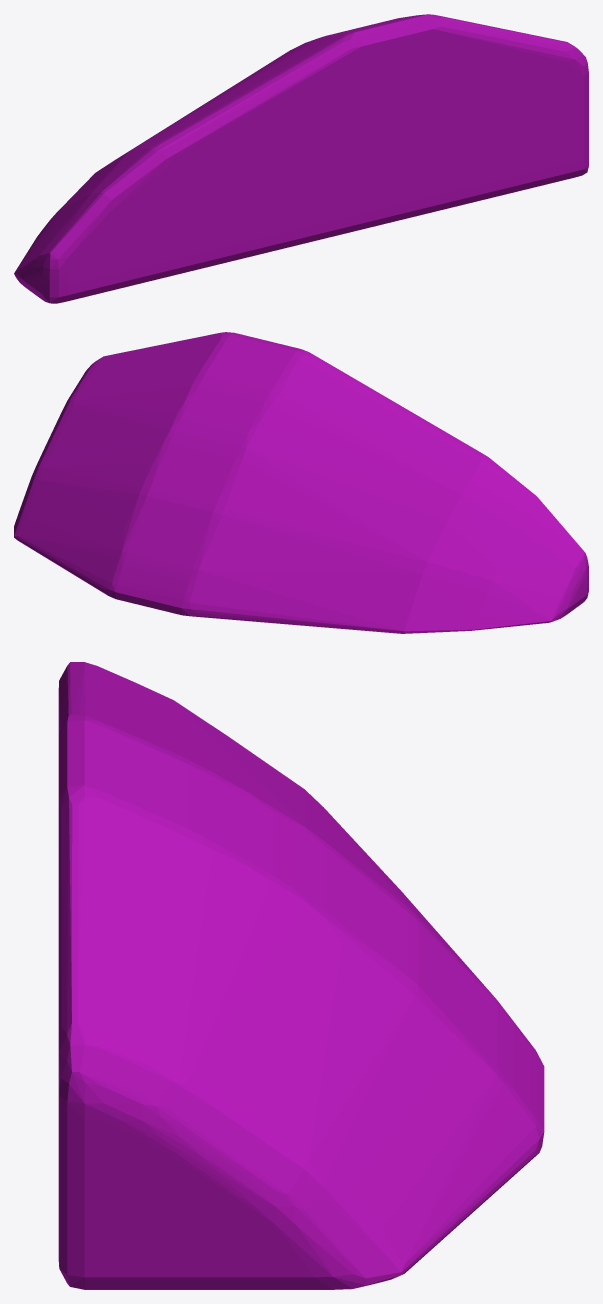
File: right_hip_yaw_link_part_22.obj
3 renders of one model, top to bottom at view 1: azimuth 30°, elevation 25°; view 2: azimuth 150°, elevation 25°; view 3: azimuth 270°, elevation 25°, orthographic. The views are drawn at different scales.
Size of the model in its own units: 0.0753 by 0.0261 by 0.0313.
